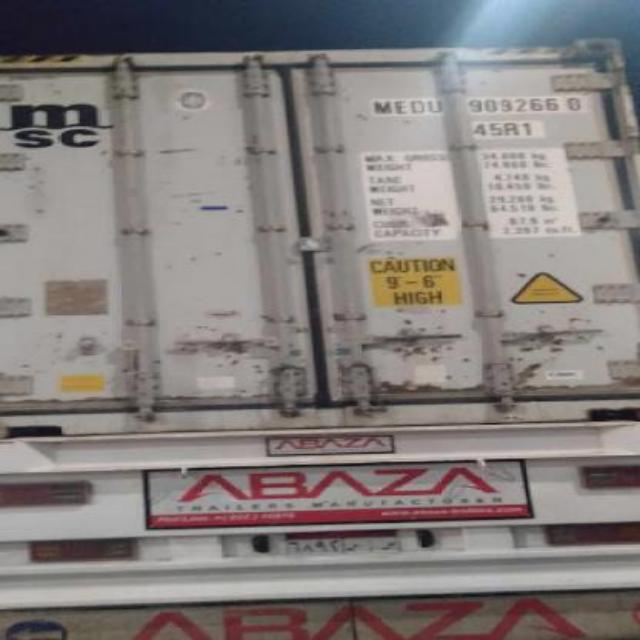0: (566, 94, 590, 118), (482, 100, 498, 114)
2: (514, 96, 530, 116)
6: (548, 95, 564, 118), (530, 94, 546, 116)
9: (471, 97, 484, 117), (498, 98, 514, 112)
D: (410, 99, 428, 117)
E: (394, 96, 410, 118)
M: (370, 96, 394, 114)
U: (426, 94, 444, 114)
